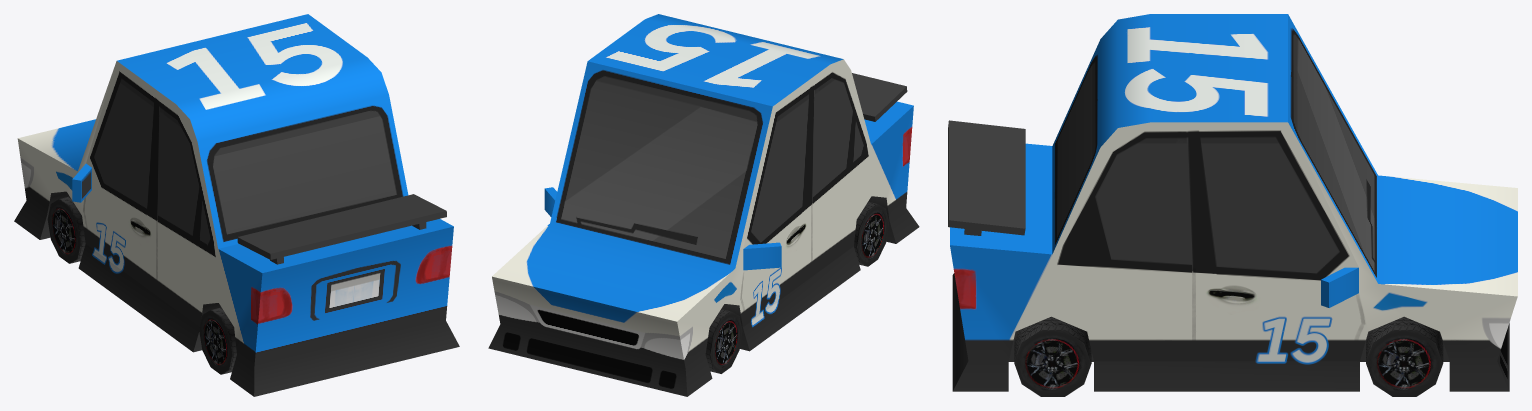
The model's file is sportscar_white_collada_14.dae.
3 views of the same model, side by side, from view 1: azimuth 30°, elevation 25°; view 2: azimuth 150°, elevation 25°; view 3: azimuth 270°, elevation 25° (orthographic). The views are drawn at different scales.
Visible parts, largest first — view 1: sportscar_white_body, wheelBL, wheelFL; view 2: sportscar_white_body, wheelFL, wheelBL; view 3: sportscar_white_body, wheelFR, wheelBR.
Part boxes in pixels (x1,y1,x2,y2): sportscar_white_body: (14, 14, 459, 396); wheelBL: (199, 307, 236, 374); wheelFL: (47, 196, 85, 263); sportscar_white_body: (488, 14, 919, 396); wheelFL: (705, 309, 742, 373); wheelBL: (854, 201, 888, 266); sportscar_white_body: (948, 14, 1517, 391); wheelFR: (1366, 316, 1443, 396); wheelBR: (1014, 316, 1091, 396).
Bounding box in the file's own units: 242 × 222 × 420.
Materials: 1 (1 with a texture image).
